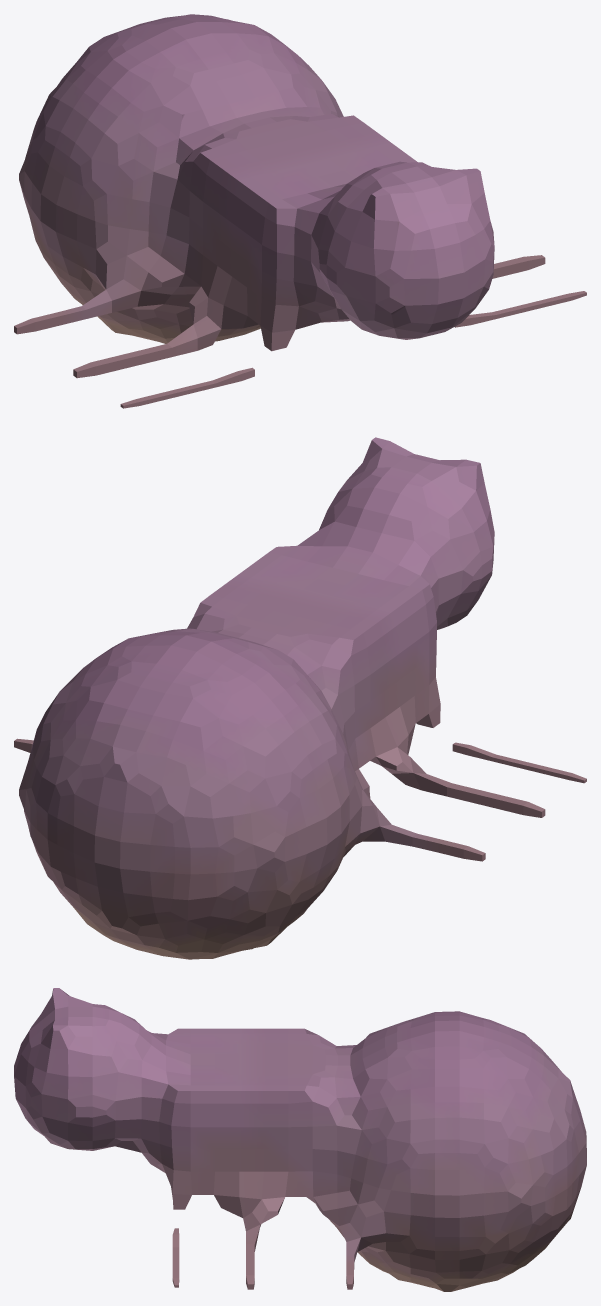
File: spiderQueenSummon.glb
The picture shows the model from 3 angles, top to bottom: view 1: azimuth 30°, elevation 25°; view 2: azimuth 150°, elevation 25°; view 3: azimuth 270°, elevation 25°; orthographic projection. The views are drawn at different scales.
Parts seen in each view (by area): view 1: geometry_0; view 2: geometry_0; view 3: geometry_0.
Boxes of the visible parts, x1=… form: geometry_0: x1=14, y1=14, x2=586, y2=408; geometry_0: x1=14, y1=437, x2=586, y2=959; geometry_0: x1=14, y1=988, x2=586, y2=1291.
Size of the model in its own units: 1.3 by 0.8487 by 1.66.
Materials: 1 (1 with a texture image).
